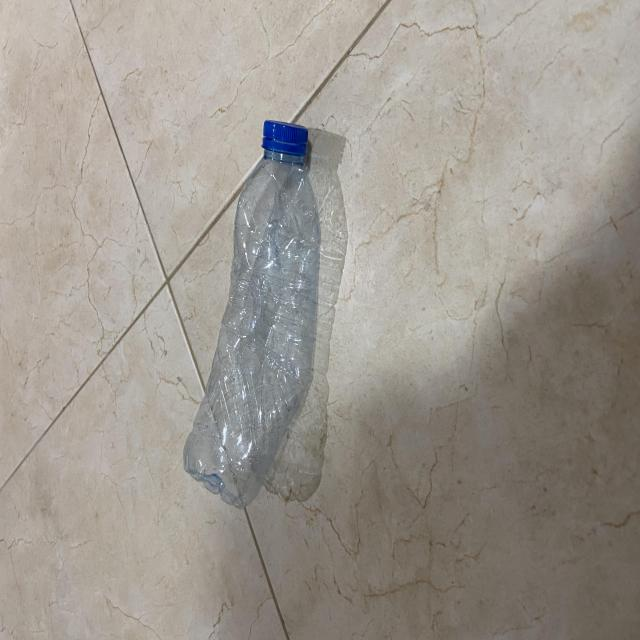plastic: (179, 109, 323, 512)
